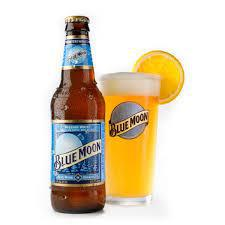beer: (49, 15, 107, 213)
